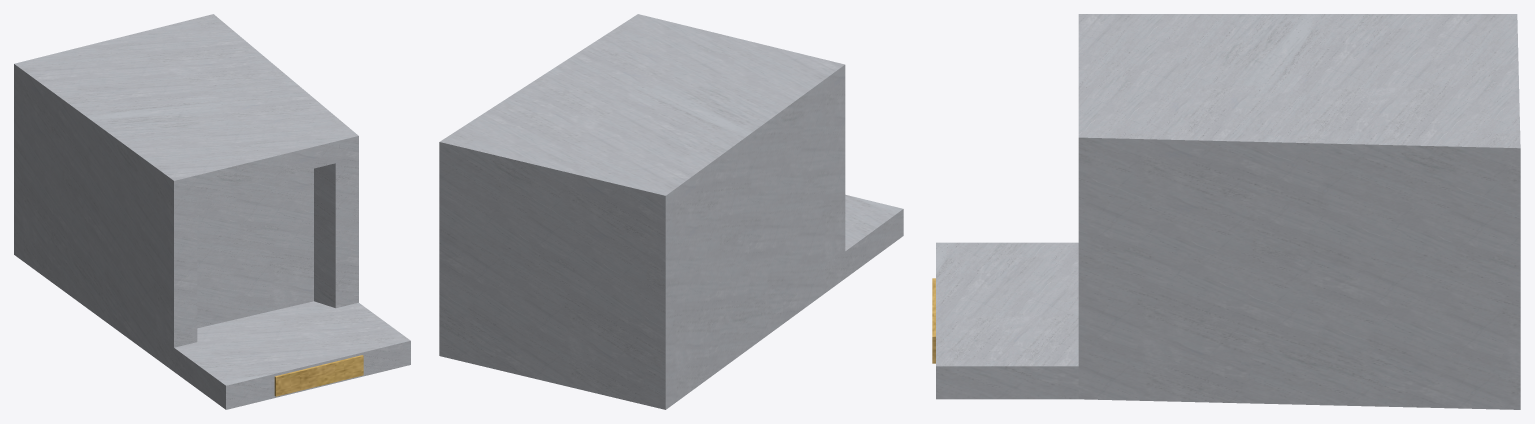
Rendered from clean_niche.glb.
The picture shows the model from 3 angles, left to right: view 1: azimuth 30°, elevation 25°; view 2: azimuth 150°, elevation 25°; view 3: azimuth 270°, elevation 25°; orthographic projection. The views are drawn at different scales.
Visible parts, largest first — view 1: Root Node; view 2: Root Node; view 3: Root Node.
Boxes of the visible parts, <box> form: Root Node: <box>14,14,410,409</box>; Root Node: <box>439,14,903,409</box>; Root Node: <box>932,14,1520,409</box>.
Size of the model in its own units: 0.4344 by 0.395 by 0.8044.
23 materials, 23 textured.
